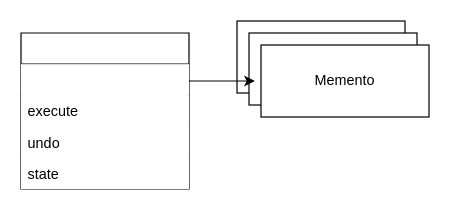
Some shapes in this 450 by 214 pixel diagram are drawn without their labels. Each missing label, with the box of its shape:
Command Stack: (20, 32, 189, 189)
stack: (20, 64, 188, 95)
